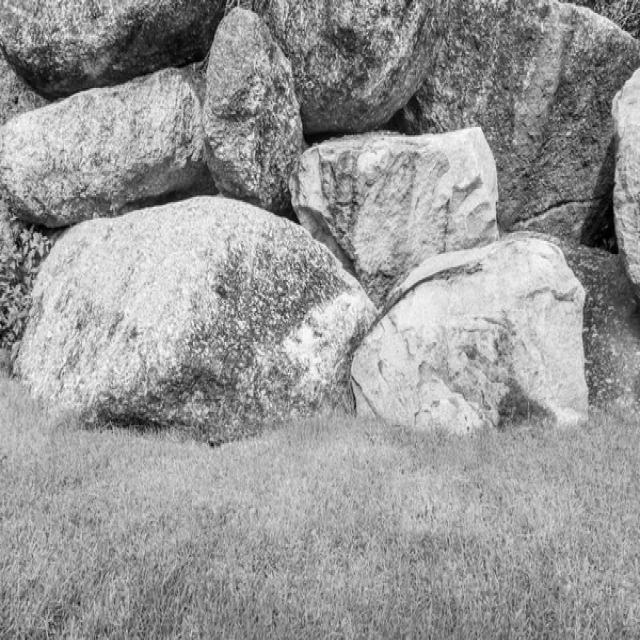Stone: (13, 194, 378, 439), (395, 0, 640, 243), (353, 233, 590, 434), (290, 129, 499, 307), (0, 67, 214, 227), (254, 0, 448, 133), (0, 0, 226, 99), (203, 7, 303, 214), (551, 238, 640, 411), (613, 68, 640, 294)
